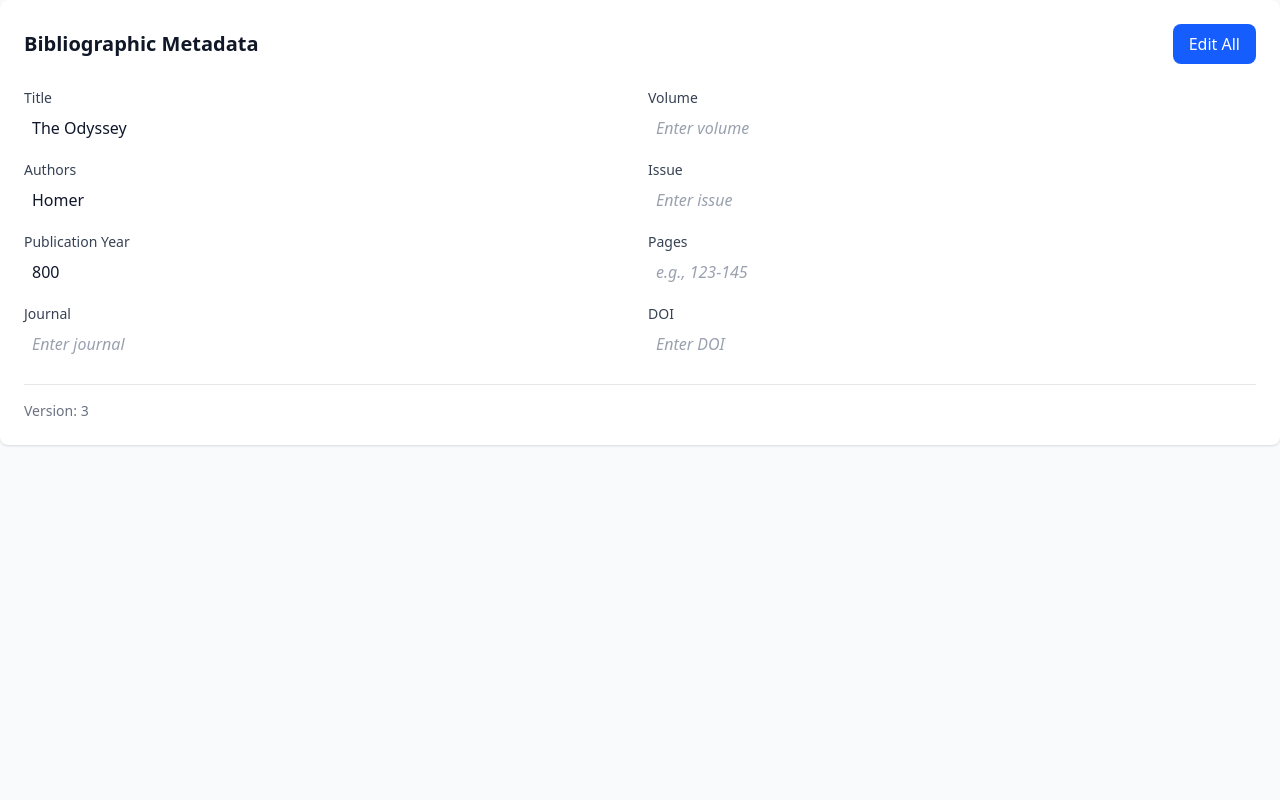
Test: MetadataPanel › opens the metadata editor modal from the Edit All button
Step 1. Click the button "Edit All" → click(1214, 44), box [1173,24,1256,64]
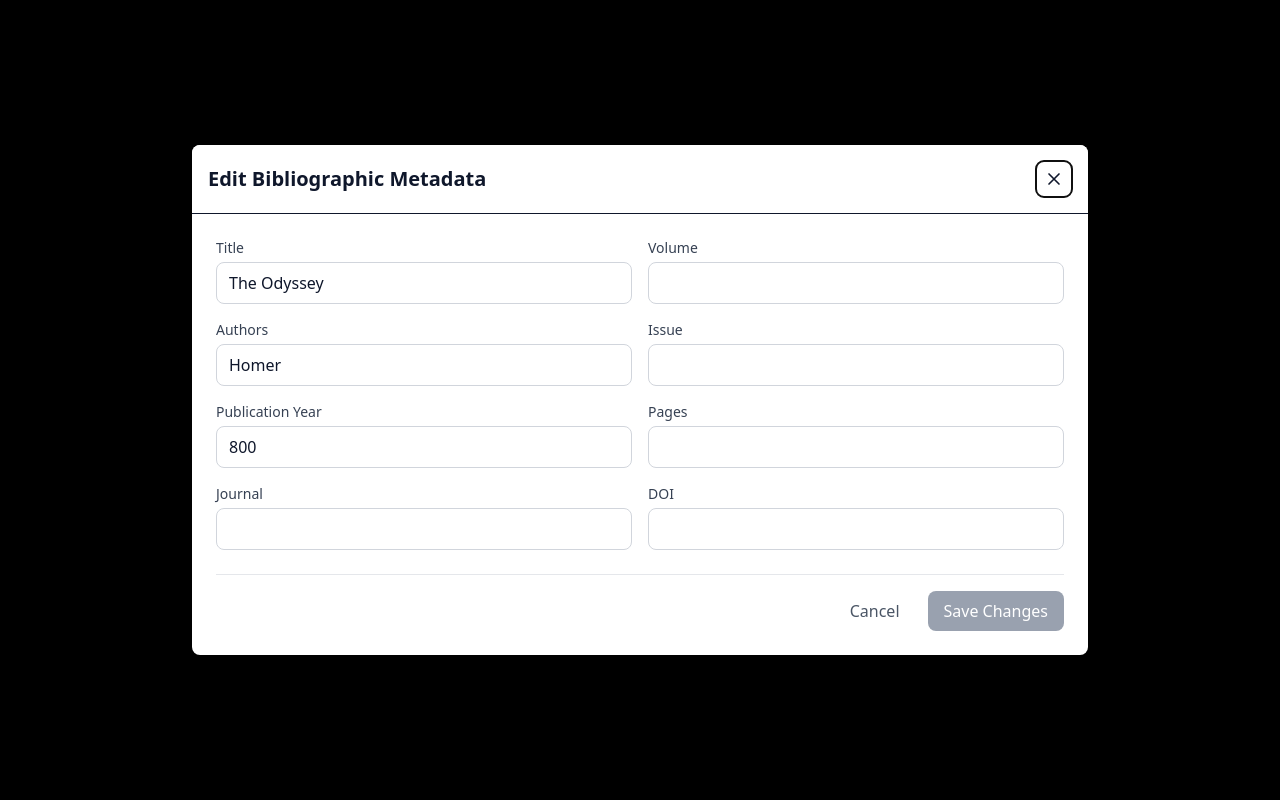
expect the heading "Edit Bibliographic Metadata" is shown: met, box [208,165,486,193]
Step 2. Click the button "Cancel" → click(875, 611), box [834,591,916,631]
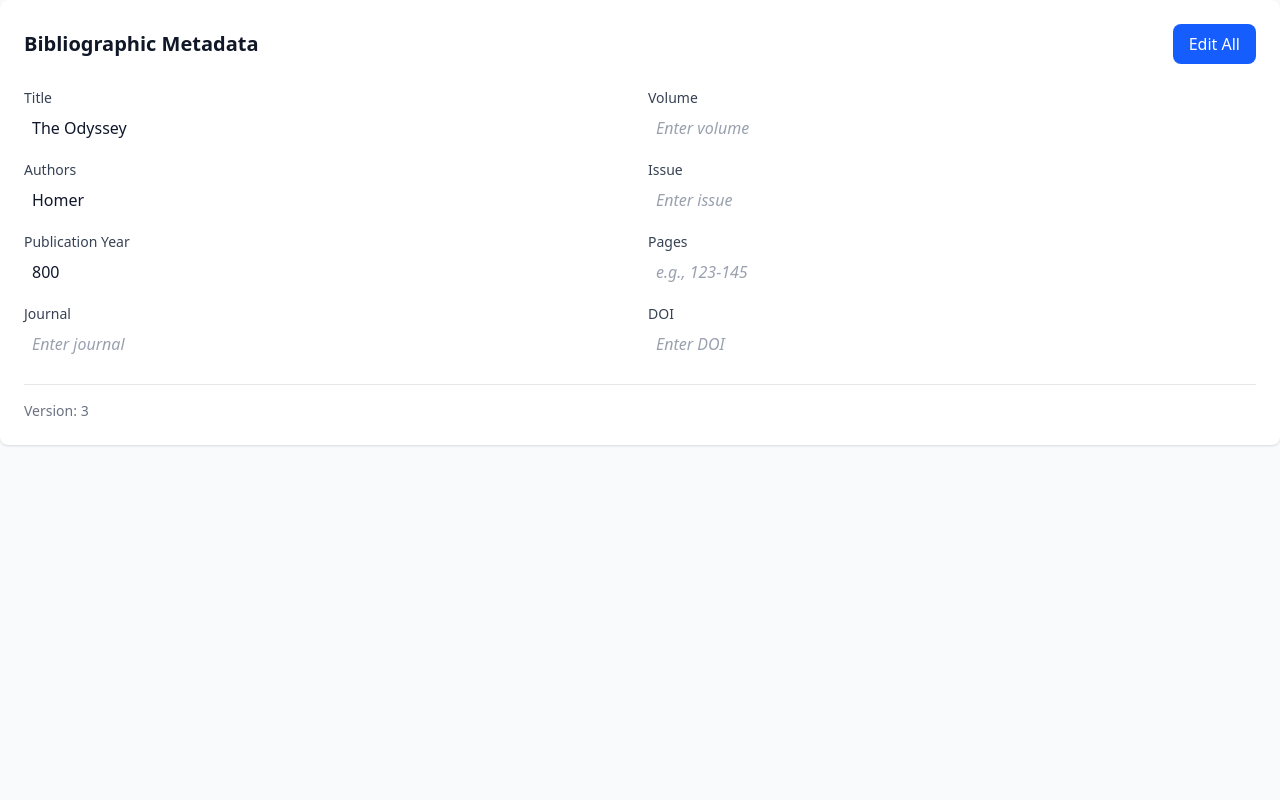
expect the heading "Edit Bibliographic Metadata" is gone: met
